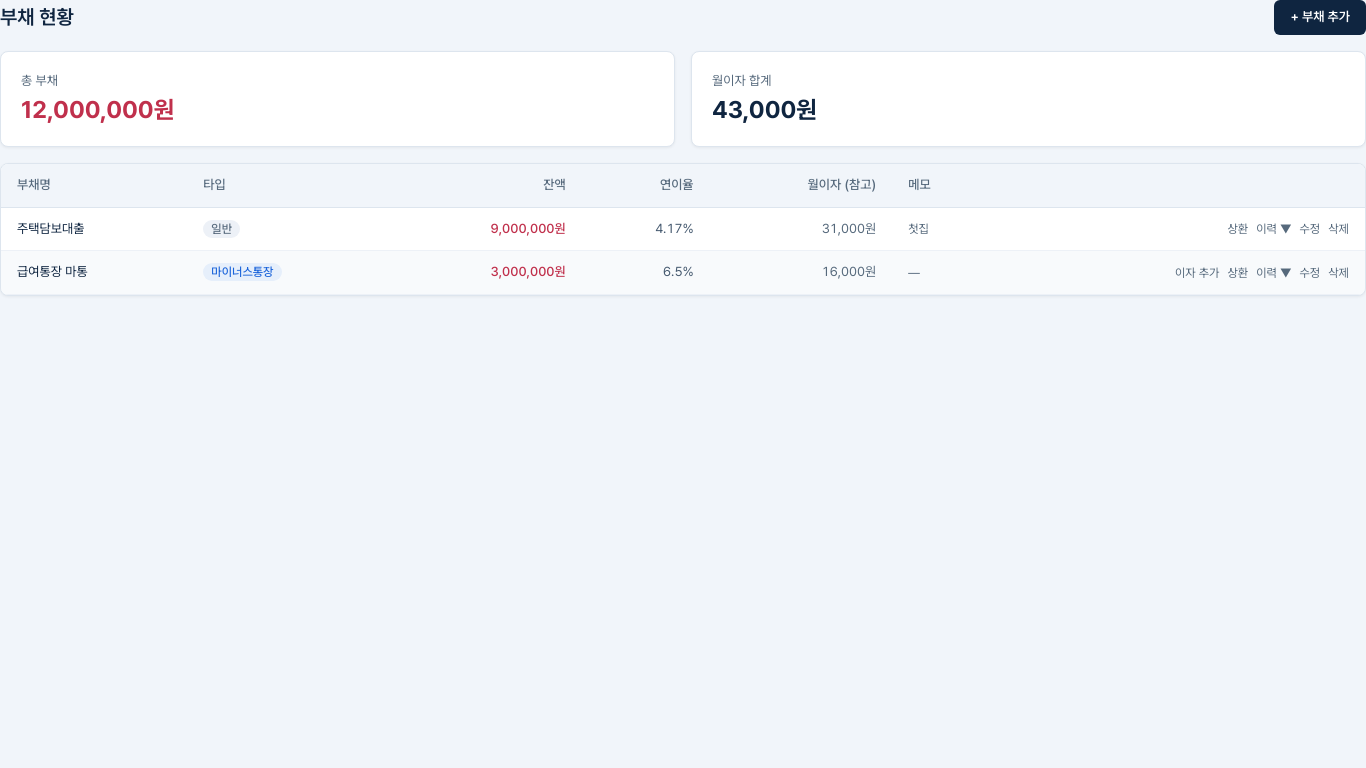
Scenario: 수정 폼이 가리키는 대상 › 폼을 연 채 다른 부채를 수정하면 그 부채 값으로 바뀐다
The image size is (1366, 768).
Expected: the text "주택담보대출" is shown, [1, 207, 187, 251]
Click the button "수정" in the row of "주택담보대출" at (1310, 229), box [1300, 221, 1320, 237]
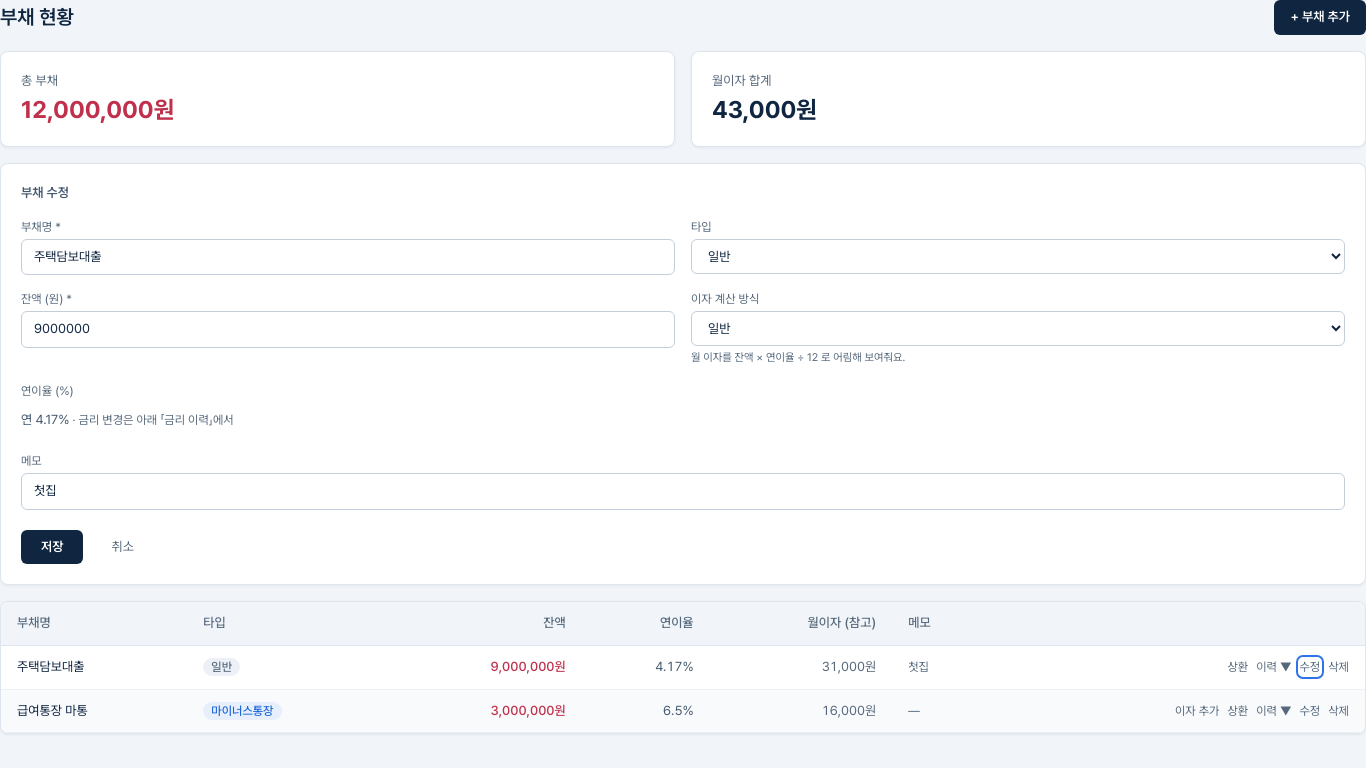
Expected: the field labelled "부채명 *" holds "주택담보대출", [21, 239, 675, 275]
Click the button "수정" in the row of "급여통장 마통" at (1310, 711), box [1300, 703, 1320, 719]
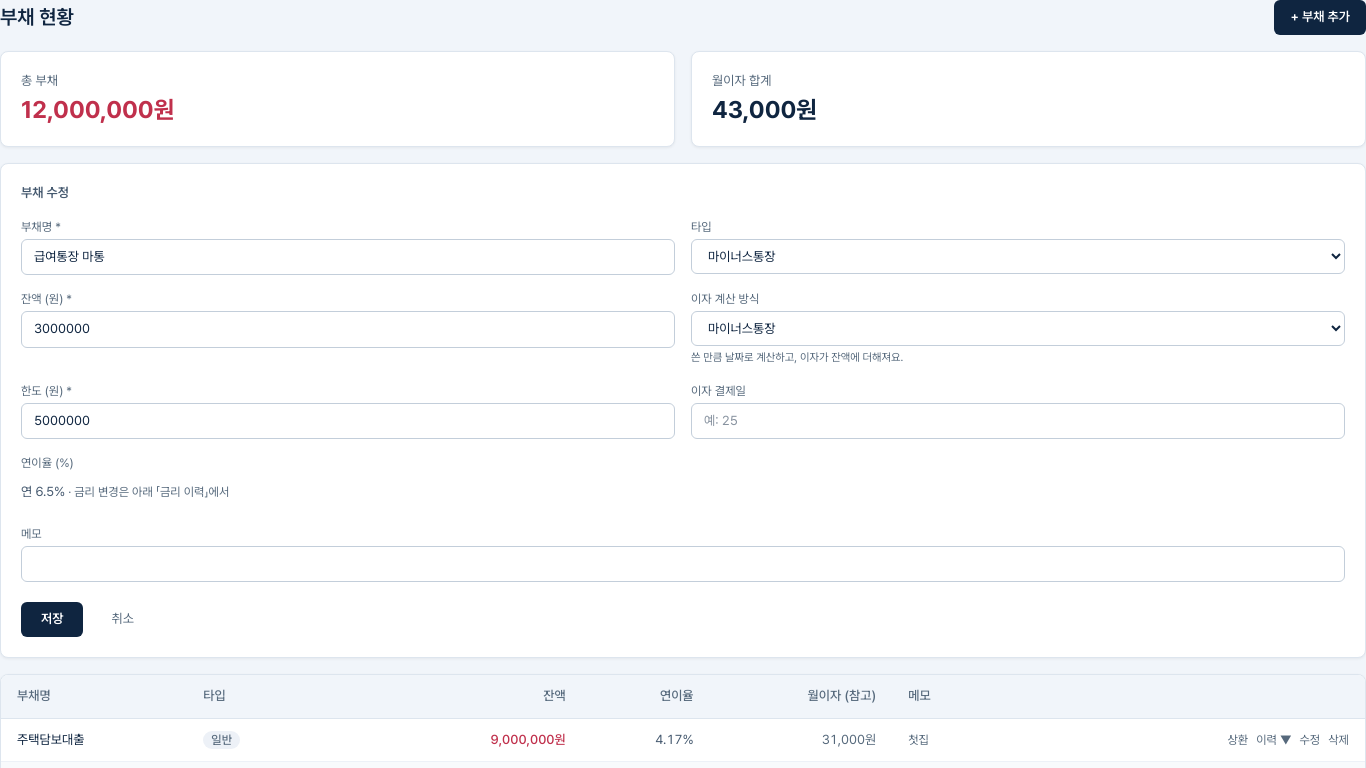
Expected: the field labelled "부채명 *" holds "급여통장 마통", [21, 239, 675, 275]
